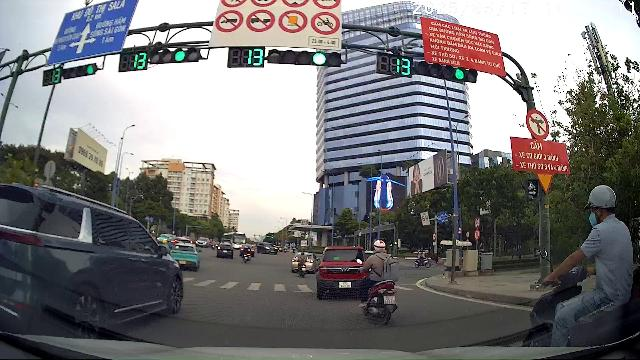137-cam-re-trai-va-re-phai: (526, 109, 549, 139)
